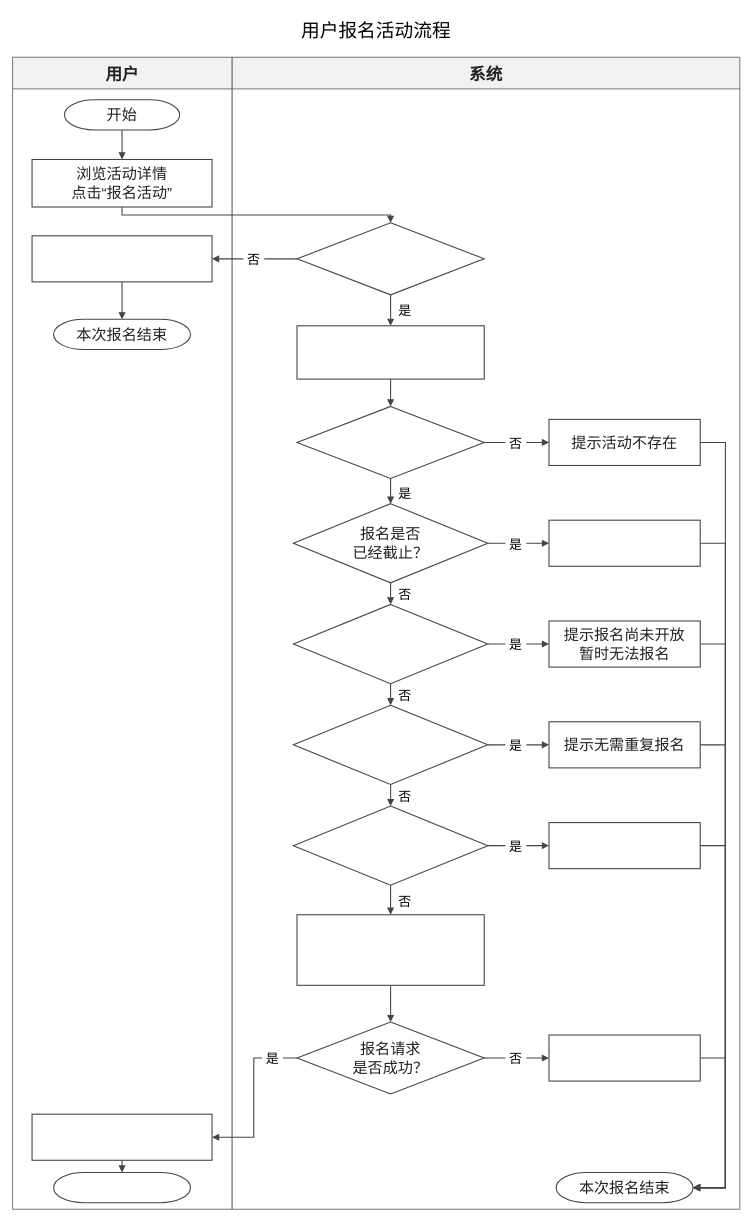
The diagram is 752 pixels wide and 1222 high, and some of its shapes have lost their labels. The box of each missing label's shape, as (x1, y1, x2, y2) in pixels:
保存用户、活动 来源渠道及报名时间 形成报名记录: (296, 914, 484, 986)
已设上限且 报名人数已满？: (293, 805, 488, 885)
报名完成: (53, 1172, 191, 1203)
报名是否 尚未开放？: (293, 604, 488, 684)
提交活动编号 及报名来源渠道: (296, 325, 484, 379)
提示先登录 跳转至登录页面: (31, 235, 212, 282)
提示报名人数已满: (548, 822, 700, 869)
提示报名已截止 无法报名: (548, 519, 700, 566)
显示“报名成功”: (31, 1113, 212, 1160)
显示报名失败: (548, 1034, 700, 1081)
活动是否存在？: (296, 406, 484, 479)
用户是否已登录？: (296, 222, 484, 295)
该用户是否 已经报过名？: (293, 704, 488, 785)
